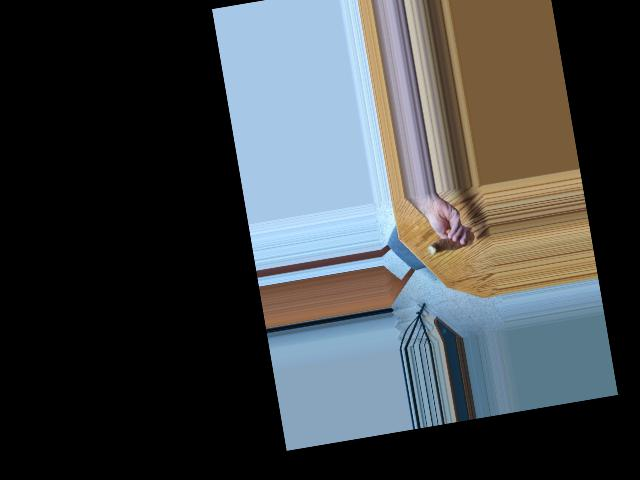sweet_potato: (424, 227, 475, 256)
